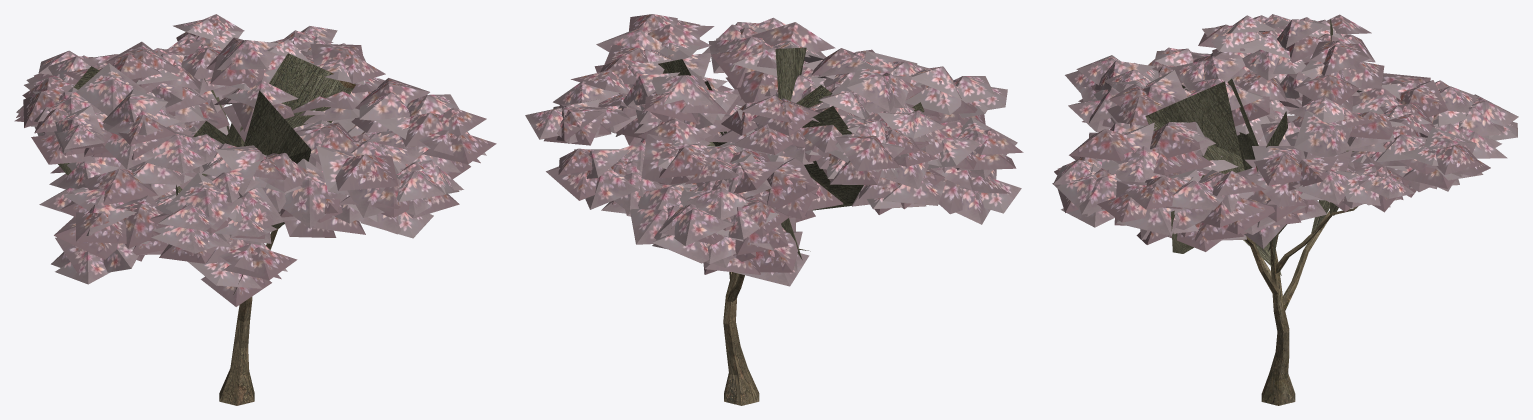
Rendered from bg_anh_tree_te_t54_sm_old.FBX.
The picture shows the model from 3 angles, left to right: view 1: azimuth 30°, elevation 25°; view 2: azimuth 150°, elevation 25°; view 3: azimuth 270°, elevation 25°; orthographic projection. The views are drawn at different scales.
Parts seen in each view (by area): view 1: bg_anh_tree_te_t54_sm_old; view 2: bg_anh_tree_te_t54_sm_old; view 3: bg_anh_tree_te_t54_sm_old.
Part boxes in pixels (x1,y1,x2,y2): bg_anh_tree_te_t54_sm_old: [14, 14, 496, 405]; bg_anh_tree_te_t54_sm_old: [525, 14, 1023, 405]; bg_anh_tree_te_t54_sm_old: [1052, 14, 1518, 405].
Bounding box in the file's own units: 584 × 464 × 604.
